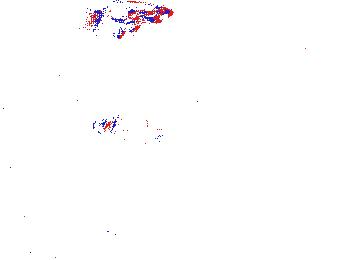X-ray fish: (91, 110, 164, 152), (39, 162, 98, 196)
redtail glassfish: (89, 1, 174, 42)
